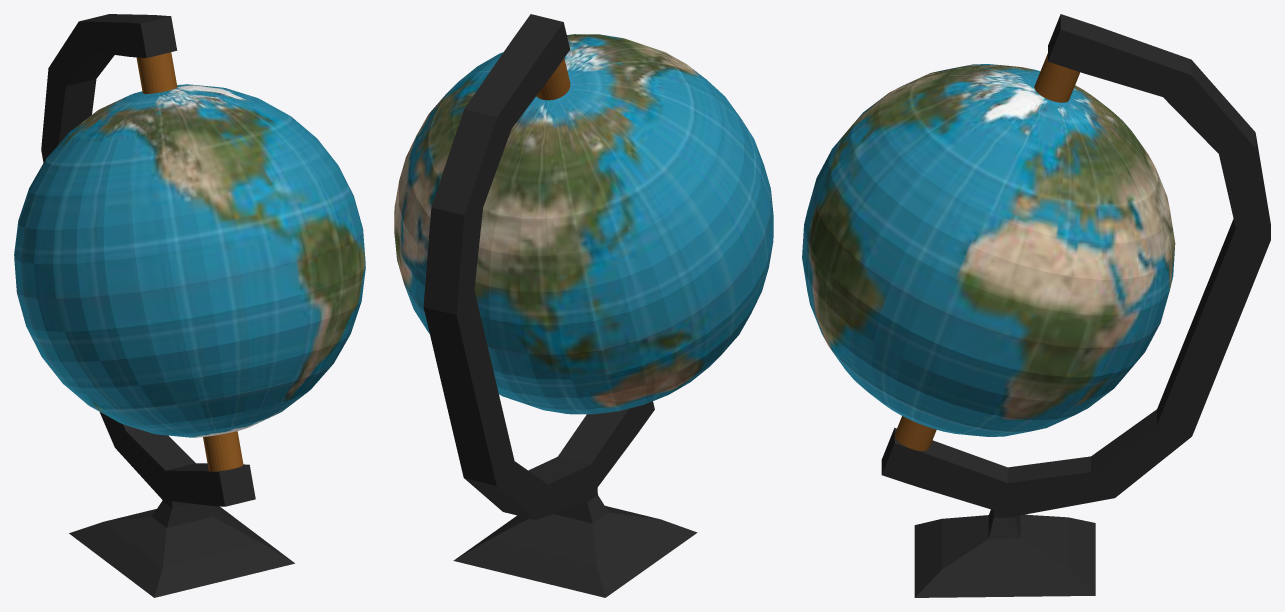
Rendered from globe.fbx.
The picture shows the model from 3 angles, left to right: view 1: azimuth 30°, elevation 25°; view 2: azimuth 150°, elevation 25°; view 3: azimuth 270°, elevation 25°; orthographic projection. The views are drawn at different scales.
Visible parts, largest first — view 1: Sphere, Cube.001, Cylinder; view 2: Sphere, Cube.001, Cylinder; view 3: Sphere, Cube.001, Cylinder.
Part boxes in pixels (x1,y1,x2,y2): Sphere: (14,84,365,437); Cube.001: (41,14,294,597); Cylinder: (136,52,243,471); Sphere: (394,34,773,414); Cube.001: (423,14,697,597); Cylinder: (536,58,570,100); Sphere: (802,64,1175,436); Cube.001: (881,14,1270,597); Cylinder: (894,53,1079,450).
Size of the model in its own units: 200 by 319 by 251.
